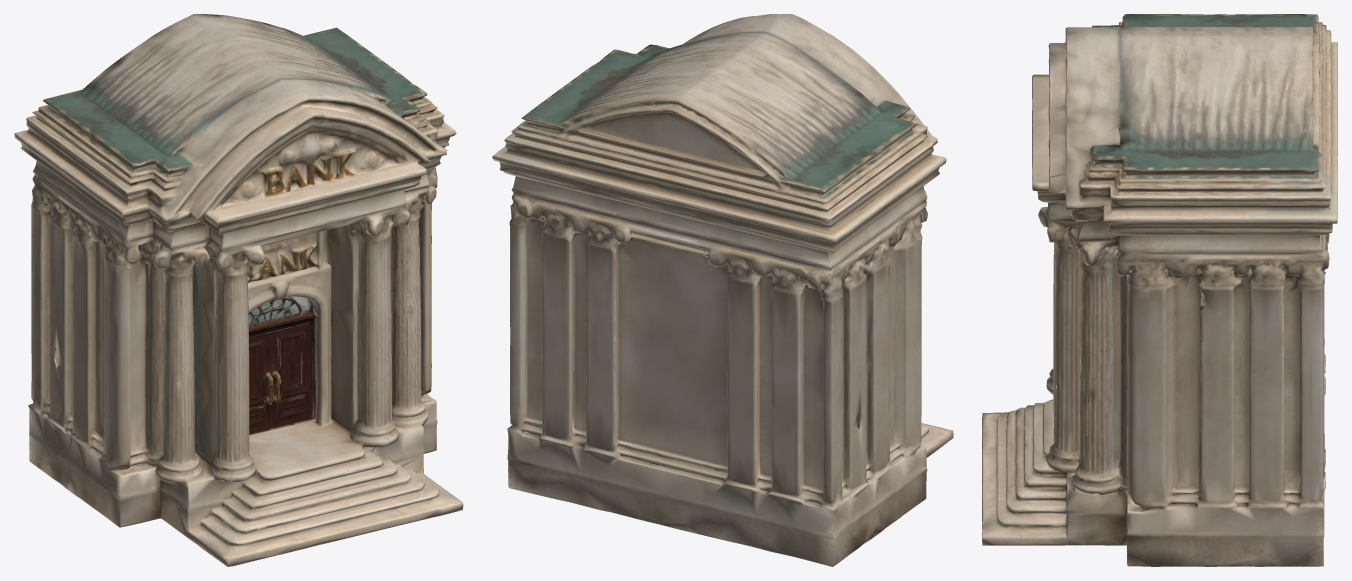
Rendered from Meshy_AI__0420171855_texture.fbx.
3 renders of one model, left to right at view 1: azimuth 30°, elevation 25°; view 2: azimuth 150°, elevation 25°; view 3: azimuth 270°, elevation 25°, orthographic. The views are drawn at different scales.
Parts seen in each view (by area): view 1: Mesh1.0; view 2: Mesh1.0; view 3: Mesh1.0.
Part boxes in pixels (left/top/right/bottom): Mesh1.0: left=14, top=14, right=463, bottom=566; Mesh1.0: left=492, top=14, right=953, bottom=566; Mesh1.0: left=982, top=14, right=1337, bottom=566.
Bounding box in the file's own units: 170 × 201 × 145.
1 material, 1 textured.
